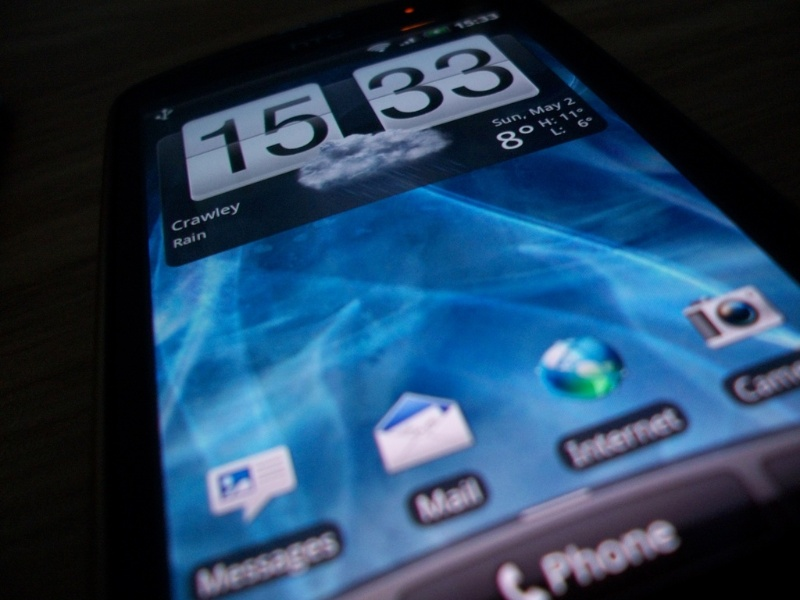cellphone: (99, 30, 800, 558)
